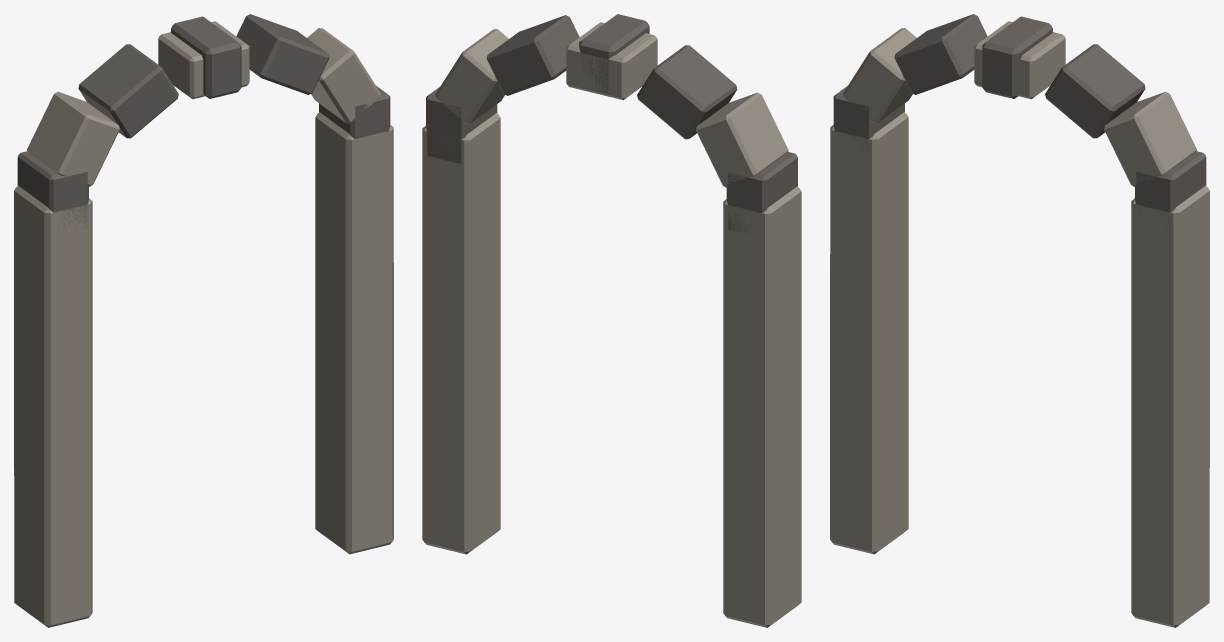
The model's file is PR_Tier_TasKemer.fbx.
3 renders of one model, left to right at view 1: azimuth 30°, elevation 25°; view 2: azimuth 150°, elevation 25°; view 3: azimuth 330°, elevation 25°, orthographic.
Parts seen in each view (by area): view 1: PR_Tier_TasKemer; view 2: PR_Tier_TasKemer; view 3: PR_Tier_TasKemer.
Boxes of the visible parts, x1,y1,x2,y2 form: PR_Tier_TasKemer: (14,14,393,627); PR_Tier_TasKemer: (422,14,801,627); PR_Tier_TasKemer: (830,14,1209,627).
Size of the model in its own units: 1.74 by 2.59 by 0.34.
